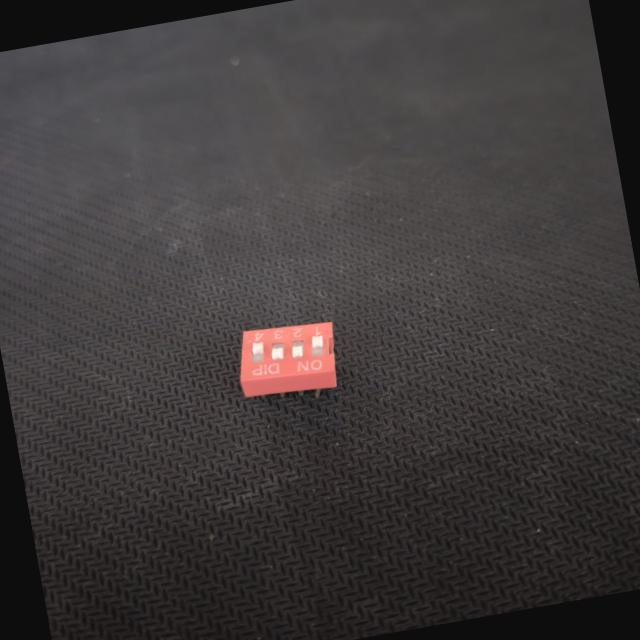switch: (210, 294, 368, 426)
